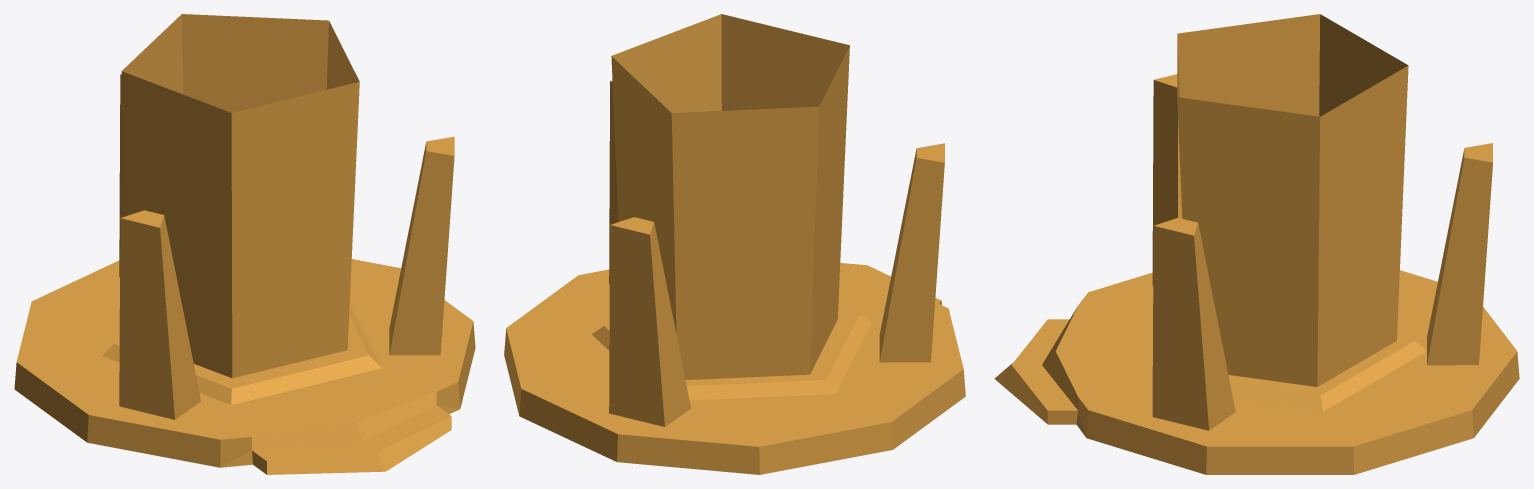
The model's file is scifi-teleport.fbx.
The picture shows the model from 3 angles, left to right: view 1: azimuth 30°, elevation 25°; view 2: azimuth 150°, elevation 25°; view 3: azimuth 270°, elevation 25°; orthographic projection.
Parts seen in each view (by area): view 1: scifi-teleport; view 2: scifi-teleport; view 3: scifi-teleport.
Part boxes in pixels (bbox=[...]): scifi-teleport: bbox=[14, 14, 475, 474]; scifi-teleport: bbox=[504, 14, 965, 474]; scifi-teleport: bbox=[994, 14, 1519, 474].
Bounding box in the file's own units: 3 × 2.27 × 3.46.
